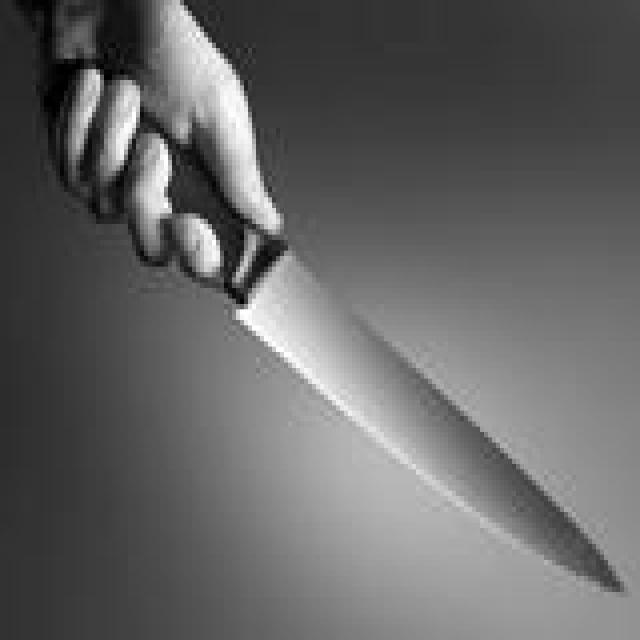Knife: (148, 112, 628, 598)
